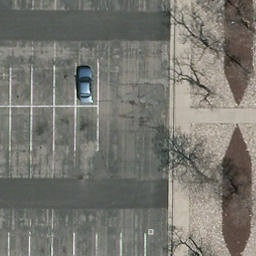car: (77, 62, 95, 103)
